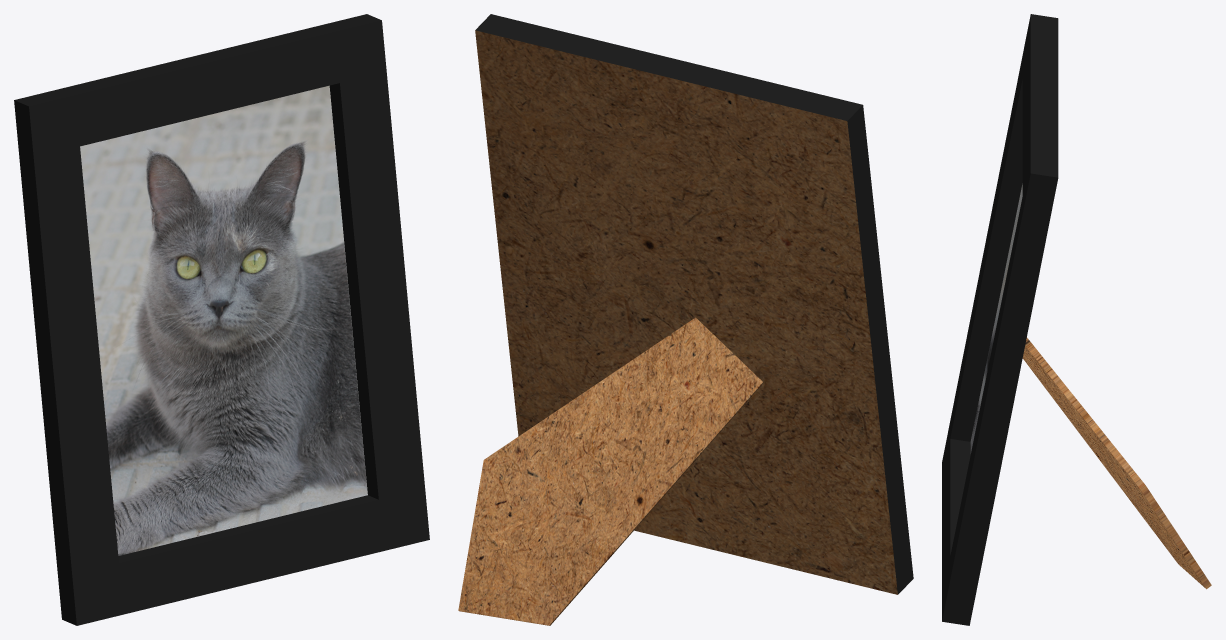
File: Photo.FBX
3 renders of one model, left to right at view 1: azimuth 30°, elevation 25°; view 2: azimuth 150°, elevation 25°; view 3: azimuth 270°, elevation 25°, orthographic. The views are drawn at different scales.
Visible parts, largest first — view 1: Photo; view 2: Photo; view 3: Photo.
Boxes of the visible parts, left/top/right/bottom form: Photo: left=14, top=14, right=429, bottom=625; Photo: left=458, top=14, right=913, bottom=625; Photo: left=942, top=14, right=1211, bottom=625.
Size of the model in its own units: 19.89 by 26.32 by 14.22.
Materials: 1 (1 with a texture image).
